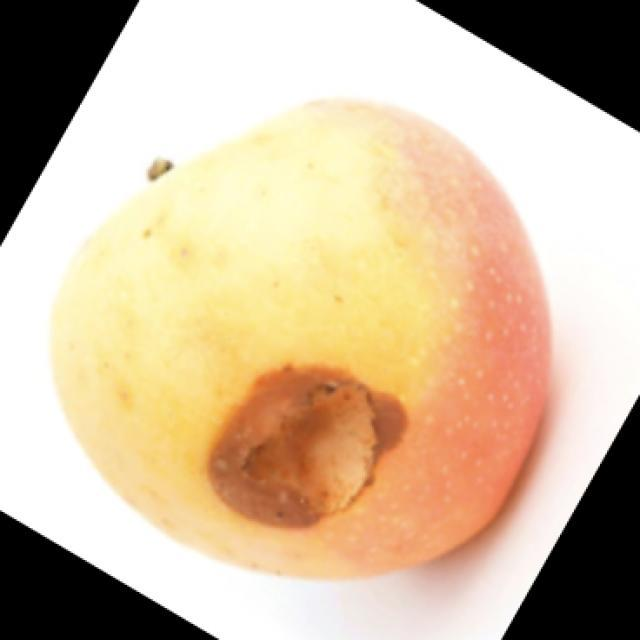Rotten: (42, 81, 558, 576)
